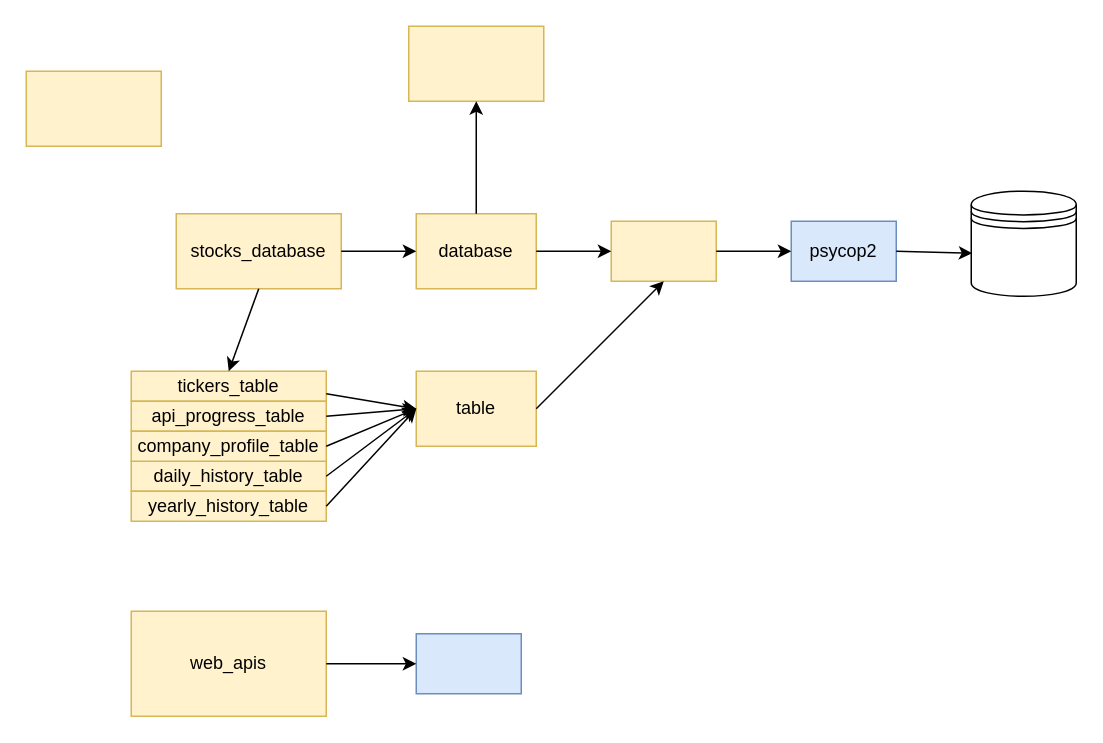
Image size: 1103x743. Some labels were removed from this diagram. Each missing label, with the box of its shape:
config: (407, 25, 544, 101)
main: (25, 70, 161, 146)
postgres: (610, 220, 716, 281)
Postgres DB: (970, 190, 1076, 296)
requests: (415, 632, 521, 694)
